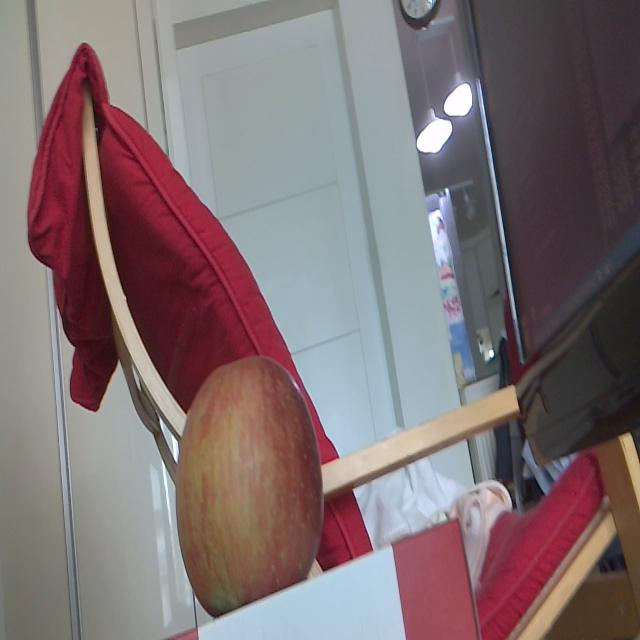apple: (175, 358, 322, 598)
